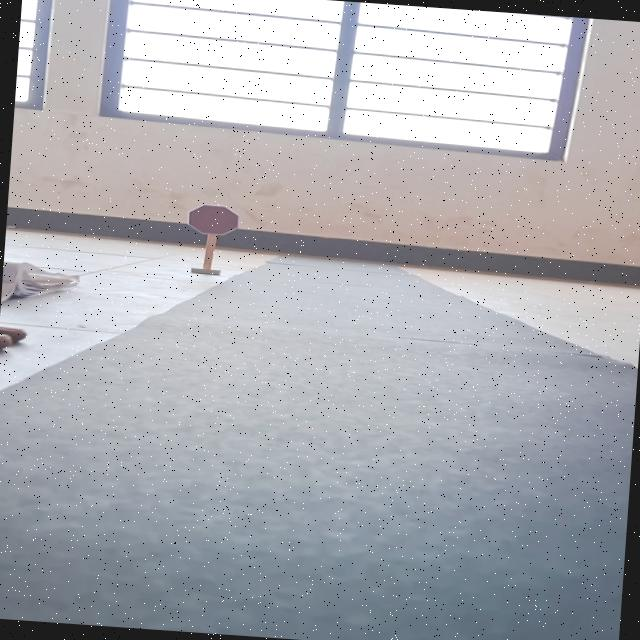Stop: (186, 203, 241, 236)
